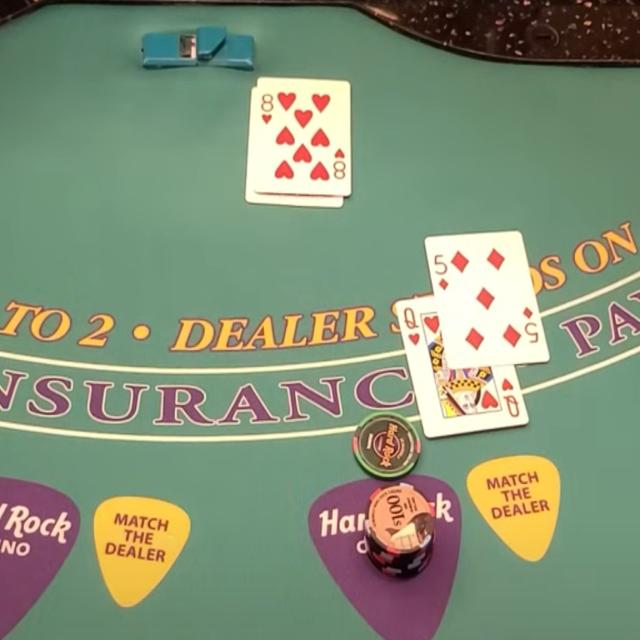5: (430, 250, 449, 276)
8: (259, 92, 275, 113)
Q: (401, 306, 420, 331)
